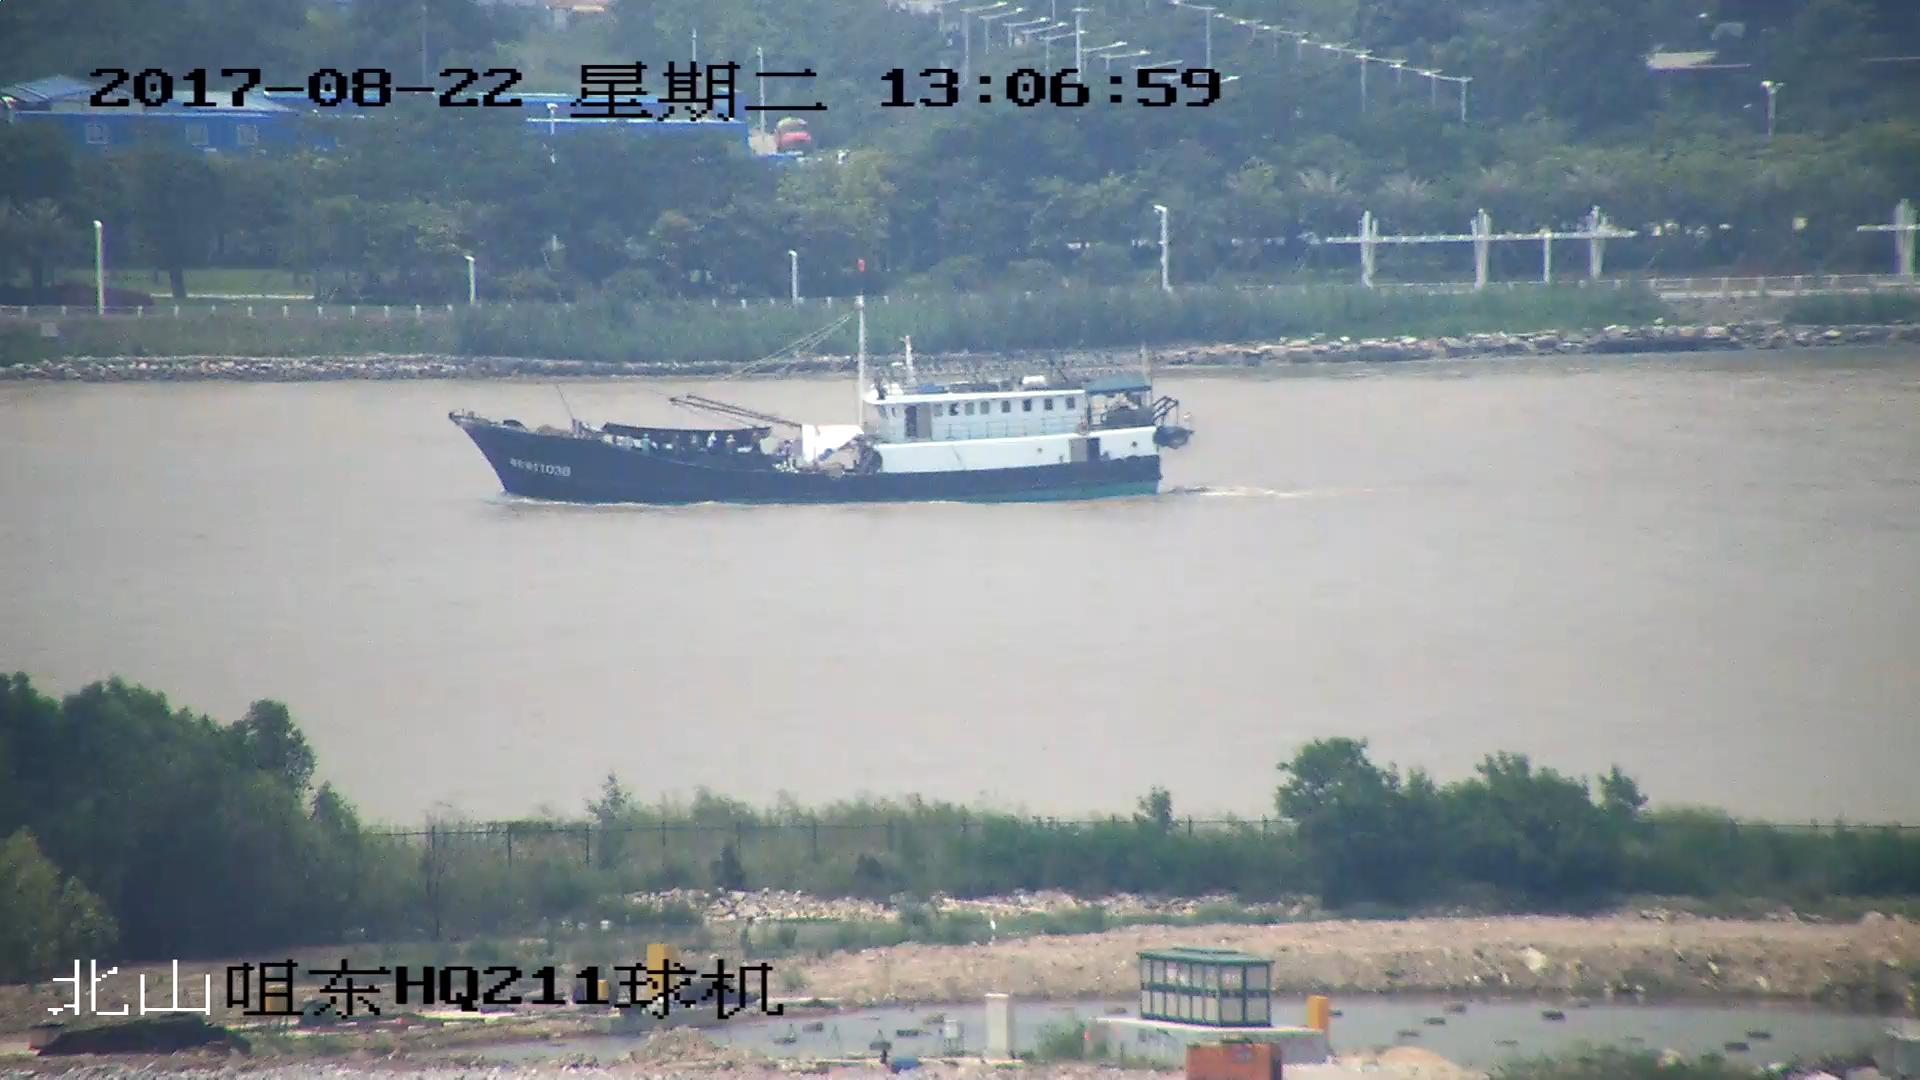fishing boat: (461, 303, 1190, 505)
